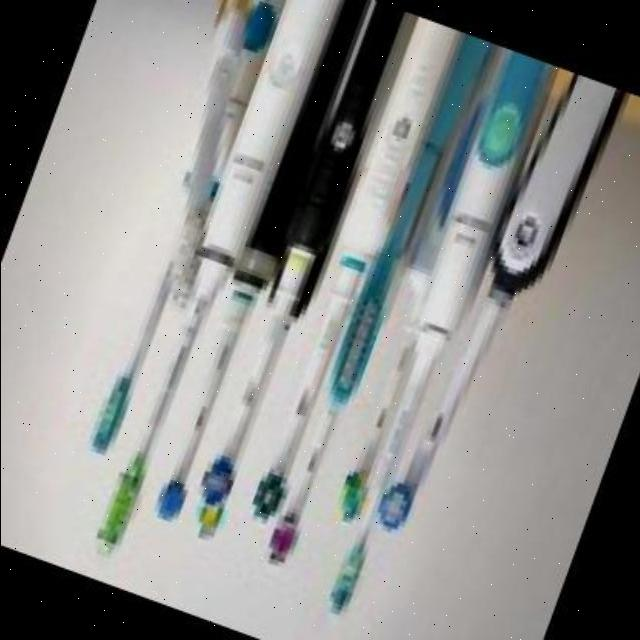toothbrush: (21, 212, 564, 638)
